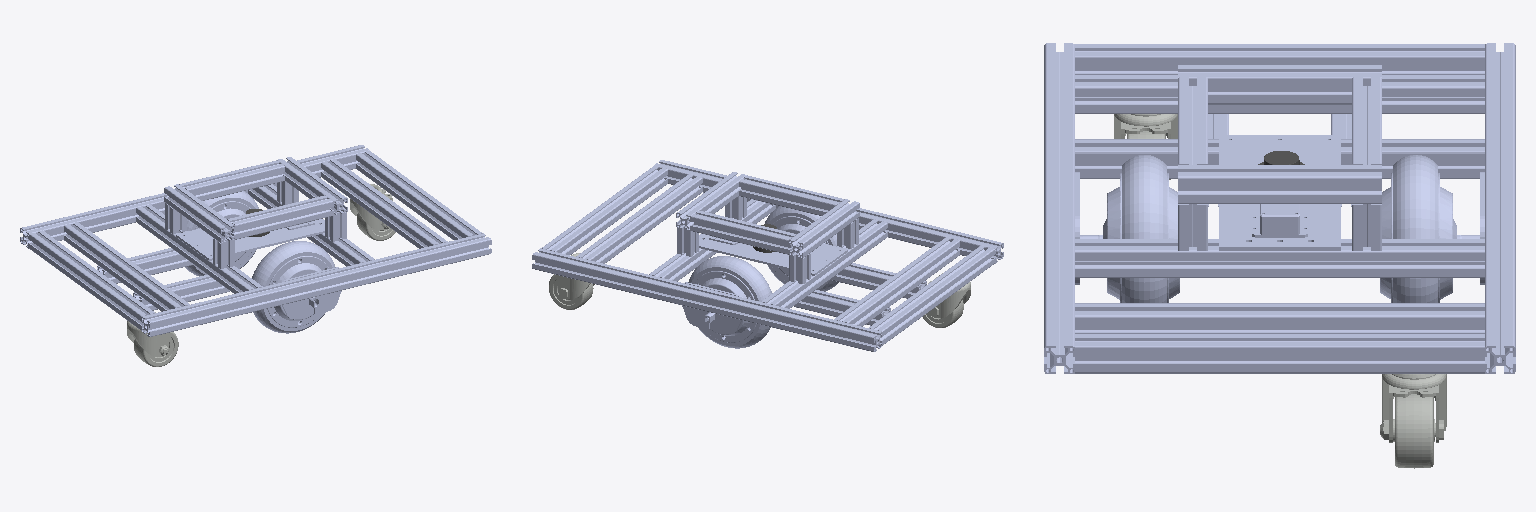
robot.urdf — sw_car_robot:
<?xml version="1.0" encoding="UTF-8"?>
<robot name="sw_car_robot">
    <!-- 基础底盘 -->
    <link name="base_link">
        <inertial>
            <origin xyz="-0.0115548507811187 4.43303730404548e-05 -0.00438983663929073" rpy="0 0 0"/>
            <mass value="1.92416644066463"/>
            <inertia
                ixx="0.0114789802265756" ixy="1.48692437305398e-09" ixz="-9.09888117377426e-19"
                iyy="0.0208403844664953" iyz="3.009423885416e-20" izz="0.031921780608387"/>
        </inertial>
        <visual>
            <origin xyz="0 0 0" rpy="0 0 0"/>
            <geometry>
                <mesh filename="package://sw_car_robot/meshes/base_link.STL"/>
            </geometry>
            <material name="">
                <color rgba="0.792156862745098 0.819607843137255 0.933333333333333 1"/>
            </material>
        </visual>
        <collision>
            <origin xyz="0 0 0" rpy="0 0 0"/>
            <geometry>
                <mesh filename="package://sw_car_robot/meshes/base_link.STL"/>
            </geometry>
        </collision>
    </link>

    <!-- 右轮 -->
    <link name="right_wheel_Link">
        <inertial>
            <origin xyz="-3.27091740914831e-08 -0.000624031143720775 -2.20238052926758e-06" rpy="0 0 0"/>
            <mass value="0.936891183989554"/>
            <inertia
                ixx="0.00158203298303897" ixy="8.2652616903286e-10" ixz="2.73570747813025e-09"
                iyy="0.00295416607086207" iyz="-1.00413405252824e-07" izz="0.00158201485524712"/>
        </inertial>
        <visual>
            <origin xyz="0 0 0" rpy="0 0 0"/>
            <geometry>
                <mesh filename="package://sw_car_robot/meshes/right_wheel_Link.STL"/>
            </geometry>
            <material name="">
                <color rgba="0.792156862745098 0.819607843137255 0.933333333333333 1"/>
            </material>
        </visual>
        <collision>
            <origin xyz="0 0 0" rpy="0 0 0"/>
            <geometry>
                <mesh filename="package://sw_car_robot/meshes/right_wheel_Link.STL"/>
            </geometry>
        </collision>
    </link>

    <joint name="right_wheel_joint" type="continuous">
        <origin xyz="0.00021033 -0.13235 -0.052" rpy="0 0 0"/>
        <parent link="base_link"/>
        <child link="right_wheel_Link"/>
        <axis xyz="0 -1 0"/>
    </joint>

    <!-- 左轮 -->
    <link name="left_wheel_Link">
        <inertial>
            <origin xyz="-3.27091740914831e-08 0.000624031143720782 2.20238052930227e-06" rpy="0 0 0"/>
            <mass value="0.936891183989552"/>
            <inertia
                ixx="0.00158203298303897" ixy="-8.26526169652693e-10" ixz="-2.7357074795091e-09"
                iyy="0.00295416607086206" iyz="-1.00413405252852e-07" izz="0.00158201485524712"/>
        </inertial>
        <visual>
            <origin xyz="0 0 0" rpy="0 0 0"/>
            <geometry>
                <mesh filename="package://sw_car_robot/meshes/left_wheel_Link.STL"/>
            </geometry>
            <material name="">
                <color rgba="0.792156862745098 0.819607843137255 0.933333333333333 1"/>
            </material>
        </visual>
        <collision>
            <origin xyz="0 0 0" rpy="0 0 0"/>
            <geometry>
                <mesh filename="package://sw_car_robot/meshes/left_wheel_Link.STL"/>
            </geometry>
        </collision>
    </link>

    <joint name="left_wheel_joint" type="continuous">
        <origin xyz="0.00021033 0.13245 -0.052" rpy="0 0 0"/>
        <parent link="base_link"/>
        <child link="left_wheel_Link"/>
        <axis xyz="0 -1 0"/>
    </joint>

    <!-- 激光雷达 -->
    <link name="laser_link">
        <inertial>
            <origin xyz="0.00389538377842952 6.96636667121553e-05 0.00675620343221199" rpy="0 0 0"/>
            <mass value="0.000111381912632094"/>
            <inertia
                ixx="8.09809329043561e-10" ixy="2.73503561864404e-14" ixz="-2.38510959093959e-14"
                iyy="8.09669103957883e-10" iyz="-2.71309792689796e-15" izz="1.1705711515088e-10"/>
        </inertial>
        <visual>
            <origin xyz="0 0 0" rpy="0 0 0"/>
            <geometry>
                <mesh filename="package://sw_car_robot/meshes/laser_link.STL"/>
            </geometry>
            <material name="">
                <color rgba="0.376470588235294 0.376470588235294 0.376470588235294 1"/>
            </material>
        </visual>
        <collision>
            <origin xyz="0 0 0" rpy="0 0 0"/>
            <geometry>
                <mesh filename="package://sw_car_robot/meshes/laser_link.STL"/>
            </geometry>
        </collision>
    </link>

    <joint name="laser_joint" type="continuous">
        <origin xyz="-0.0036345 0.0015781 0.0153" rpy="0 0 0"/>
        <parent link="base_link"/>
        <child link="laser_link"/>
        <axis xyz="0 0 1"/>
    </joint>

    <!-- 陀螺仪 -->
    <link name="gyro_link">
        <inertial>
            <origin xyz="-0.000461131492249467 -1.49767170332105e-08 0.0111420685976309" rpy="0 0 0"/>
            <mass value="0.0548244190262658"/>
            <inertia
                ixx="1.00905498581389e-05" ixy="-7.81875144258967e-12" ixz="-8.08032197163114e-09"
                iyy="1.47422266994545e-05" iyz="1.26941468245718e-12" izz="2.14471397750011e-05"/>
        </inertial>
        <visual>
            <origin xyz="0 0 0" rpy="0 0 0"/>
            <geometry>
                <mesh filename="package://sw_car_robot/meshes/gyro_link.STL"/>
            </geometry>
            <material name="">
                <color rgba="0.792156862745098 0.819607843137255 0.933333333333333 1"/>
            </material>
        </visual>
        <collision>
            <origin xyz="0 0 0" rpy="0 0 0"/>
            <geometry>
                <mesh filename="package://sw_car_robot/meshes/gyro_link.STL"/>
            </geometry>
        </collision>
    </link>

    <joint name="gyro_joint" type="fixed">
        <origin xyz="0.08026 4.7299e-05 0.004" rpy="0 0 0"/>
        <parent link="base_link"/>
        <child link="gyro_link"/>
        <axis xyz="0 0 0"/>
    </joint>

    <!-- 左前轮 -->
    <link name="lf_Link">
        <inertial>
            <origin xyz="0.00478439486534099 -0.000194940503855434 -0.0200897415759267" rpy="0 0 0"/>
            <mass value="0.0764331852561439"/>
            <inertia
                ixx="6.38707770236007e-05" ixy="2.8712251915659e-07" ixz="1.04097740579097e-05"
                iyy="5.80010180912247e-05" iyz="-5.27406370320295e-07" izz="5.40103969527259e-05"/>
        </inertial>
        <visual>
            <origin xyz="0 0 0" rpy="0 0 0"/>
            <geometry>
                <mesh filename="package://sw_car_robot/meshes/lf_Link.STL"/>
            </geometry>
            <material name="">
                <color rgba="0.756862745098039 0.768627450980392 0.752941176470588 1"/>
            </material>
        </visual>
        <collision>
            <origin xyz="0 0 0" rpy="0 0 0"/>
            <geometry>
                <mesh filename="package://sw_car_robot/meshes/lf_Link.STL"/>
            </geometry>
        </collision>
    </link>

    <joint name="lf_joint" type="continuous">
        <origin xyz="0.30426 0.13105 -0.044752" rpy="0 0 0"/>
        <parent link="base_link"/>
        <child link="lf_Link"/>
        <axis xyz="0 0 -1"/>
    </joint>

    <!-- 左前轮轮 -->
    <link name="lf_wheel_Link">
        <inertial>
            <origin xyz="-2.38627235416011e-07 -1.45797873774001e-10 -5.82427377576744e-08" rpy="0 0 0"/>
            <mass value="0.150467637750394"/>
            <inertia
                ixx="7.04259874807459e-05" ixy="2.5530347689886e-13" ixz="-6.7518876650059e-12"
                iyy="0.000108333870406132" iyz="2.62322526395858e-10" izz="7.04301499801809e-05"/>
        </inertial>
        <visual>
            <origin xyz="0 0 0" rpy="0 0 0"/>
            <geometry>
                <mesh filename="package://sw_car_robot/meshes/lf_wheel_Link.STL"/>
            </geometry>
            <material name="">
                <color rgba="0.756862745098039 0.768627450980392 0.752941176470588 1"/>
            </material>
        </visual>
        <collision>
            <origin xyz="0 0 0" rpy="0 0 0"/>
            <geometry>
                <mesh filename="package://sw_car_robot/meshes/lf_wheel_Link.STL"/>
            </geometry>
        </collision>
    </link>

    <joint name="lf_wheel_joint" type="continuous">
        <origin xyz="0.024001 0 -0.055747" rpy="0 0 0"/>
        <parent link="lf_Link"/>
        <child link="lf_wheel_Link"/>
        <axis xyz="0 1 0"/>
    </joint>

    <!-- 右前轮 -->
    <link name="rf_Link">
        <inertial>
            <origin xyz="0.00478439486534088 -0.000194940503855452 -0.0200897415759266" rpy="0 0 0"/>
            <mass value="0.0764331852561441"/>
            <inertia
                ixx="6.38707770236003e-05" ixy="2.87122519156654e-07" ixz="1.04097740579096e-05"
                iyy="5.80010180912242e-05" iyz="-5.27406370320046e-07" izz="5.40103969527257e-05"/>
        </inertial>
        <visual>
            <origin xyz="0 0 0" rpy="0 0 0"/>
            <geometry>
                <mesh filename="package://sw_car_robot/meshes/rf_Link.STL"/>
            </geometry>
            <material name="">
                <color rgba="0.756862745098039 0.768627450980392 0.752941176470588 1"/>
            </material>
        </visual>
        <collision>
            <origin xyz="0 0 0" rpy="0 0 0"/>
            <geometry>
                <mesh filename="package://sw_car_robot/meshes/rf_Link.STL"/>
            </geometry>
        </collision>
    </link>

    <joint name="rf_joint" type="continuous">
        <origin xyz="0.30426 -0.13095 -0.044752" rpy="0 0 0"/>
        <parent link="base_link"/>
        <child link="rf_Link"/>
        <axis xyz="0 0 -1"/>
    </joint>

    <!-- 右前轮轮 -->
    <link name="rf_wheel_Link">
        <inertial>
            <origin xyz="-2.38627238857703e-07 -1.45803789181054e-10 -5.82427377993078e-08" rpy="0 0 0"/>
            <mass value="0.150467637750351"/>
            <inertia
                ixx="7.04259874807455e-05" ixy="2.55314552251718e-13" ixz="-6.75188720255896e-12"
                iyy="0.000108333870406124" iyz="2.62322526665939e-10" izz="7.04301499801704e-05"/>
        </inertial>
        <visual>
            <origin xyz="0 0 0" rpy="0 0 0"/>
            <geometry>
                <mesh filename="package://sw_car_robot/meshes/rf_wheel_Link.STL"/>
            </geometry>
            <material name="">
                <color rgba="0.756862745098039 0.768627450980392 0.752941176470588 1"/>
            </material>
        </visual>
        <collision>
            <origin xyz="0 0 0" rpy="0 0 0"/>
            <geometry>
                <mesh filename="package://sw_car_robot/meshes/rf_wheel_Link.STL"/>
            </geometry>
        </collision>
    </link>

    <joint name="rf_wheel_joint" type="continuous">
        <origin xyz="0.024001 0 -0.055747" rpy="0 0 0"/>
        <parent link="rf_Link"/>
        <child link="rf_wheel_Link"/>
        <axis xyz="0 1 0"/>
    </joint>

    <!-- 右后轮 -->
    <link name="rb_Link">
        <inertial>
            <origin xyz="0.00478439486534091 -0.000194940503855445 -0.0200897415759267" rpy="0 0 0"/>
            <mass value="0.0764331852561443"/>
            <inertia
                ixx="6.38707770236009e-05" ixy="2.87122519156624e-07" ixz="1.04097740579094e-05"
                iyy="5.80010180912248e-05" iyz="-5.27406370320141e-07" izz="5.40103969527262e-05"/>
        </inertial>
        <visual>
            <origin xyz="0 0 0" rpy="0 0 0"/>
            <geometry>
                <mesh filename="package://sw_car_robot/meshes/rb_Link.STL"/>
            </geometry>
            <material name="">
                <color rgba="0.756862745098039 0.768627450980392 0.752941176470588 1"/>
            </material>
        </visual>
        <collision>
            <origin xyz="0 0 0" rpy="0 0 0"/>
            <geometry>
                <mesh filename="package://sw_car_robot/meshes/rb_Link.STL"/>
            </geometry>
        </collision>
    </link>

    <joint name="rb_joint" type="continuous">
        <origin xyz="-0.30374 -0.13073 -0.044752" rpy="0 0 0"/>
        <parent link="base_link"/>
        <child link="rb_Link"/>
        <axis xyz="0 0 -1"/>
    </joint>

    <!-- 右后轮轮 -->
    <link name="rb_wheel_Link">
        <inertial>
            <origin xyz="-2.3862723868423e-07 -1.45789807309837e-10 -5.82427378686967e-08" rpy="0 0 0"/>
            <mass value="0.150467637750213"/>
            <inertia
                ixx="7.04259874806708e-05" ixy="2.553556874635e-13" ixz="-6.75188927627215e-12"
                iyy="0.000108333870406104" iyz="2.62322522658485e-10" izz="7.04301499800761e-05"/>
        </inertial>
        <visual>
            <origin xyz="0 0 0" rpy="0 0 0"/>
            <geometry>
                <mesh filename="package://sw_car_robot/meshes/rb_wheel_Link.STL"/>
            </geometry>
            <material name="">
                <color rgba="0.756862745098039 0.768627450980392 0.752941176470588 1"/>
            </material>
        </visual>
        <collision>
            <origin xyz="0 0 0" rpy="0 0 0"/>
            <geometry>
                <mesh filename="package://sw_car_robot/meshes/rb_wheel_Link.STL"/>
            </geometry>
        </collision>
    </link>

    <joint name="rb_wheel_joint" type="continuous">
        <origin xyz="0.024001 0 -0.055747" rpy="0 0 0"/>
        <parent link="rb_Link"/>
        <child link="rb_wheel_Link"/>
        <axis xyz="0 1 0"/>
    </joint>

    <!-- 左后轮 -->
    <link name="lb_Link">
        <inertial>
            <origin xyz="0.00478439486534086 -0.000194940503855462 -0.0200897415759267" rpy="0 0 0"/>
            <mass value="0.0764331852561445"/>
            <inertia
                ixx="6.38707770236011e-05" ixy="2.87122519156614e-07" ixz="1.04097740579094e-05"
                iyy="5.8001018091225e-05" iyz="-5.27406370320138e-07" izz="5.40103969527264e-05"/>
        </inertial>
        <visual>
            <origin xyz="0 0 0" rpy="0 0 0"/>
            <geometry>
                <mesh filename="package://sw_car_robot/meshes/lb_Link.STL"/>
            </geometry>
            <material name="">
                <color rgba="0.756862745098039 0.768627450980392 0.752941176470588 1"/>
            </material>
        </visual>
        <collision>
            <origin xyz="0 0 0" rpy="0 0 0"/>
            <geometry>
                <mesh filename="package://sw_car_robot/meshes/lb_Link.STL"/>
            </geometry>
        </collision>
    </link>

    <joint name="lb_joint" type="continuous">
        <origin xyz="-0.30374 0.1308 -0.043752" rpy="0 0 0"/>
        <parent link="base_link"/>
        <child link="lb_Link"/>
        <axis xyz="0 0 -1"/>
    </joint>

    <!-- 左后轮轮 -->
    <link name="lb_wheel_Link">
        <inertial>
            <origin xyz="-2.38627235499278e-07 -1.45797873774001e-10 -5.82427377437966e-08" rpy="0 0 0"/>
            <mass value="0.150467637750394"/>
            <inertia
                ixx="7.0425987480746e-05" ixy="2.55303462701306e-13" ixz="-6.75188755756752e-12"
                iyy="0.000108333870406132" iyz="2.62322526366069e-10" izz="7.04301499801806e-05"/>
        </inertial>
        <visual>
            <origin xyz="0 0 0" rpy="0 0 0"/>
            <geometry>
                <mesh filename="package://sw_car_robot/meshes/lb_wheel_Link.STL"/>
            </geometry>
            <material name="">
                <color rgba="0.756862745098039 0.768627450980392 0.752941176470588 1"/>
            </material>
        </visual>
        <collision>
            <origin xyz="0 0 0" rpy="0 0 0"/>
            <geometry>
                <mesh filename="package://sw_car_robot/meshes/lb_wheel_Link.STL"/>
            </geometry>
        </collision>
    </link>

    <joint name="lb_wheel_joint" type="continuous">
        <origin xyz="0.024001 0 -0.055747" rpy="0 0 0"/>
        <parent link="lb_Link"/>
        <child link="lb_wheel_Link"/>
        <axis xyz="0 1 0"/>
    </joint>
</robot>

--- Render facts (derived) ---
The picture shows the robot from 3 angles, left to right: view 1: azimuth 30°, elevation 25°; view 2: azimuth 150°, elevation 25°; view 3: azimuth 270°, elevation 25°; orthographic projection.
Robot: sw_car_robot — 13 links, 12 joints (11 continuous, 1 fixed); root link base_link; default pose: all joints at 0.
Links seen in each view (by area): view 1: base_link, right_wheel_Link, left_wheel_Link, rb_Link, rb_wheel_Link; view 2: base_link, left_wheel_Link, right_wheel_Link, rb_Link, lf_wheel_Link, lf_Link; view 3: base_link, left_wheel_Link, right_wheel_Link, lf_wheel_Link, lf_Link, gyro_link, rb_Link.
Link boxes in pixels (x1,y1,x2,y2): base_link: (20,145,491,336); right_wheel_Link: (252,241,335,333); left_wheel_Link: (185,191,258,276); rb_Link: (127,312,169,356); rb_wheel_Link: (134,332,178,366); base_link: (532,160,1003,351); left_wheel_Link: (688,256,771,348); right_wheel_Link: (765,206,838,291); rb_Link: (928,273,970,318); lf_wheel_Link: (549,274,593,309); lf_Link: (558,253,594,299); base_link: (1044,43,1515,373); left_wheel_Link: (1380,155,1479,302); right_wheel_Link: (1080,155,1179,302); lf_wheel_Link: (1393,394,1435,468); lf_Link: (1380,374,1446,442); gyro_link: (1252,204,1307,237); rb_Link: (1114,114,1177,179).
Bounding box of the posed robot: 0.7155 × 0.46 × 0.2184 m (x, y, z).
Meshes: 13 distinct files referenced, 9 mesh visuals loaded (9 binary STL); not drawn: 4 (reference not matched to a file when rendering).
